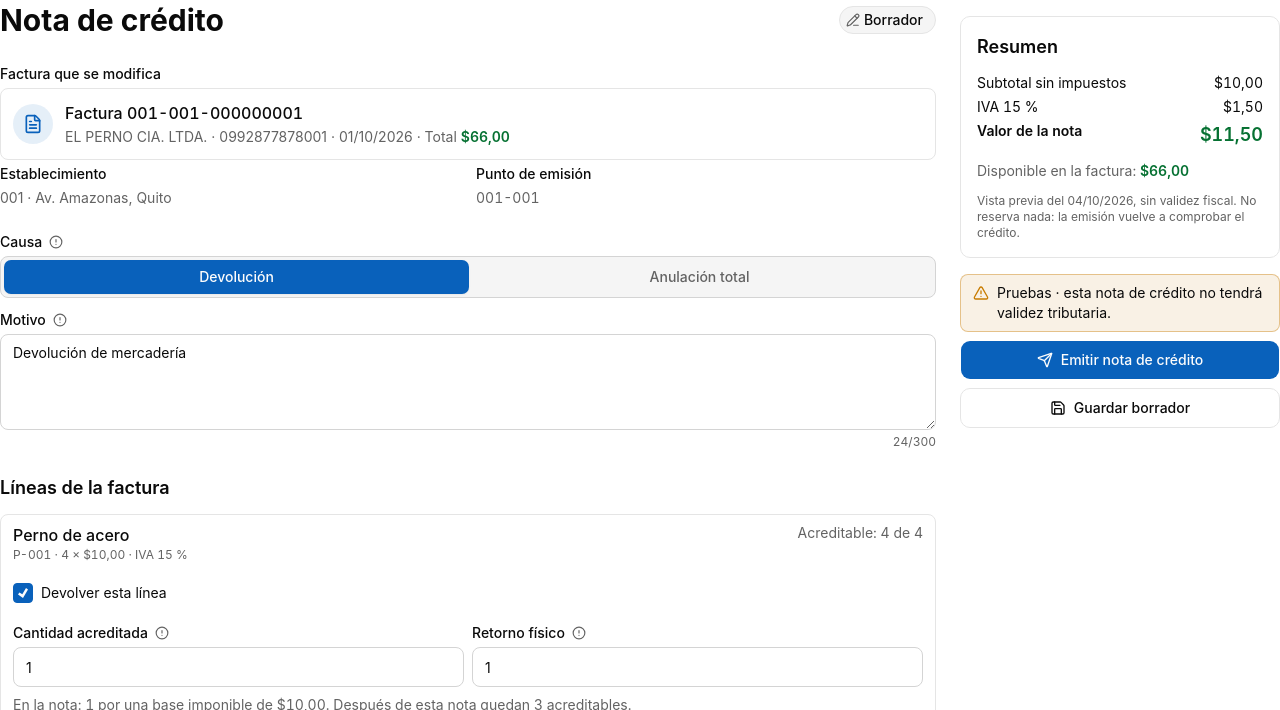
Test case: borrador de nota de crédito › un 409 de capacidad se explica con el foco en el aviso y vuelve a pedir la vista previa
The width and height of the screenshot is (1280, 710).
What coordinates should you click on to do the following:
click the button "Emitir nota de crédito"
I would click on:
 (1120, 360)
Its box is [960,340,1279,380].
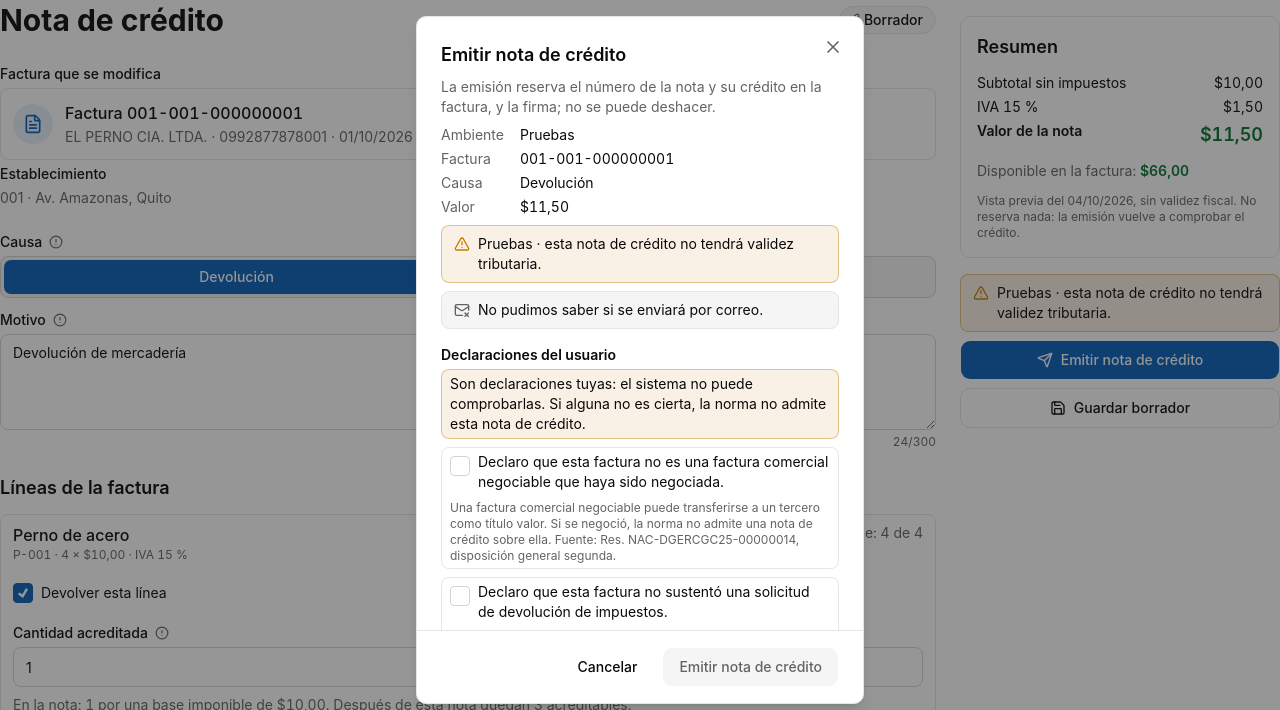
What coordinates should you click on to do the following:
click the checkbox named "Declaro que esta factura no es una factura comercial negociable que haya sido negociada."
I would click on:
 (460, 466)
Its box is [450,456,470,476].
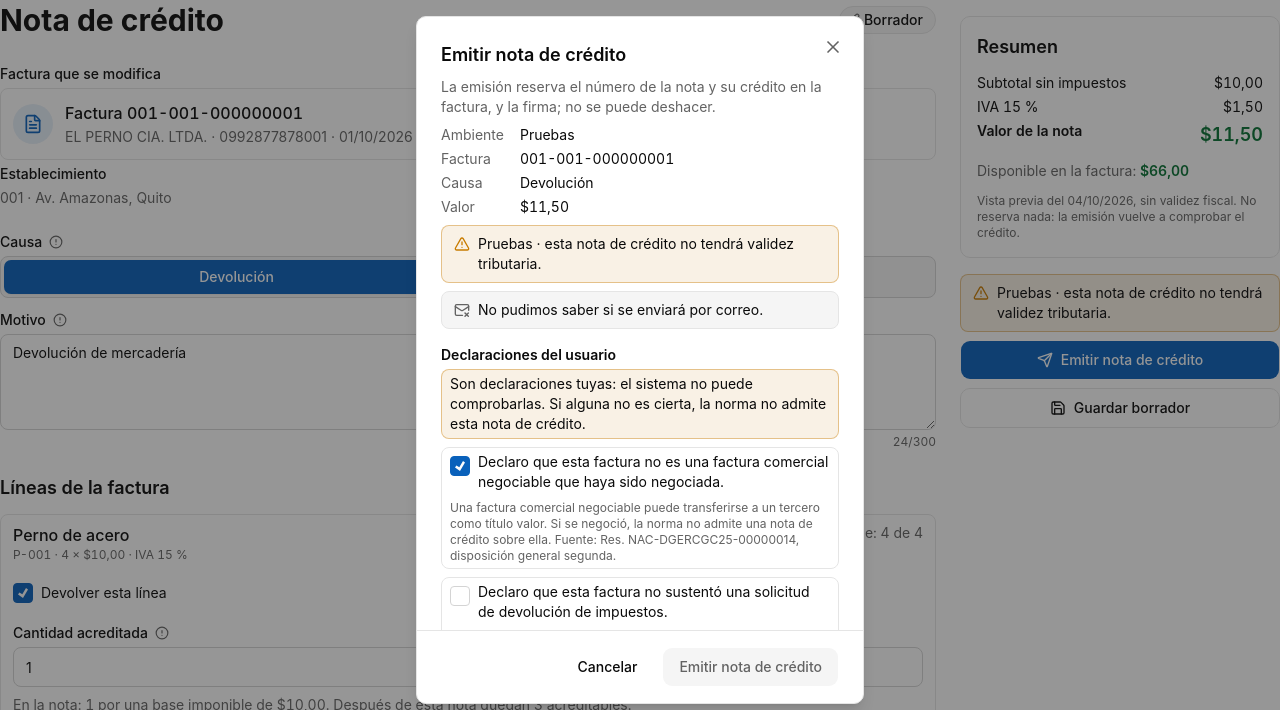
What coordinates should you click on to do the following:
click the checkbox labelled "Declaro que esta factura no sustentó una solicitud de devolución de impuestos."
I would click on:
 (460, 596)
Its box is [450,586,470,606].
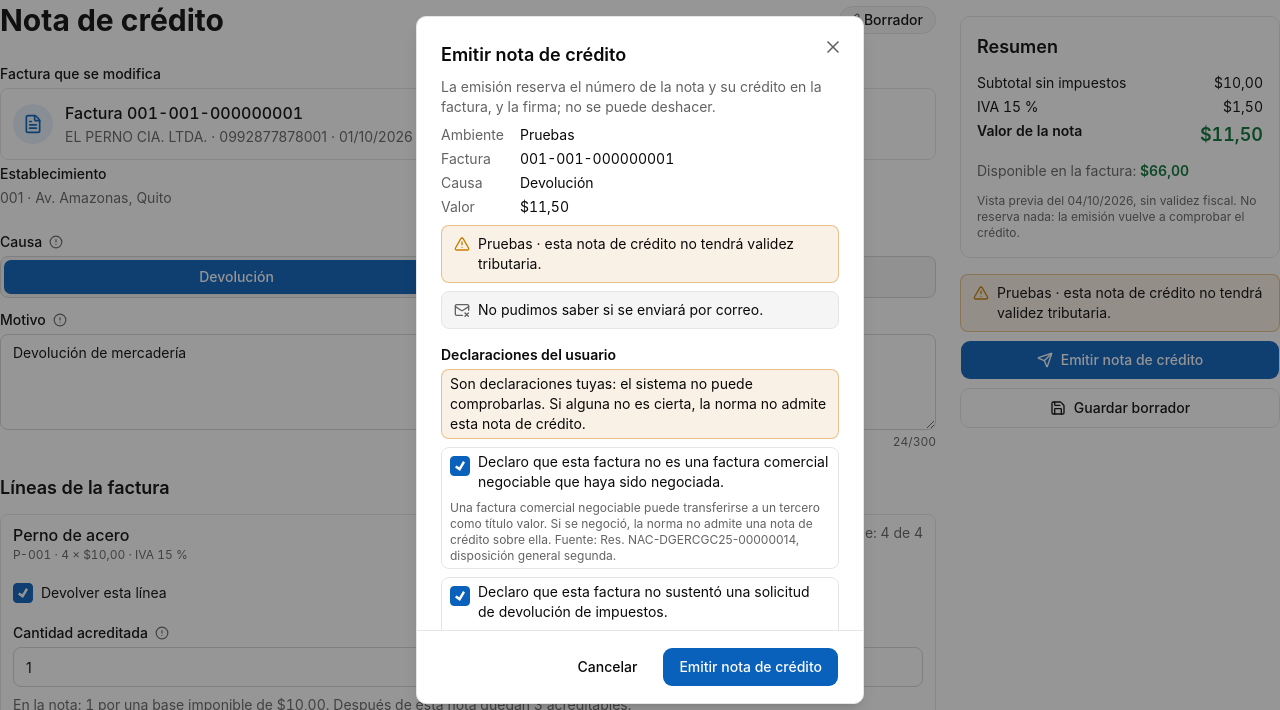
What coordinates should you click on to do the following:
click the button "Emitir nota de crédito"
I would click on:
 (751, 667)
Its box is [662,647,839,687].
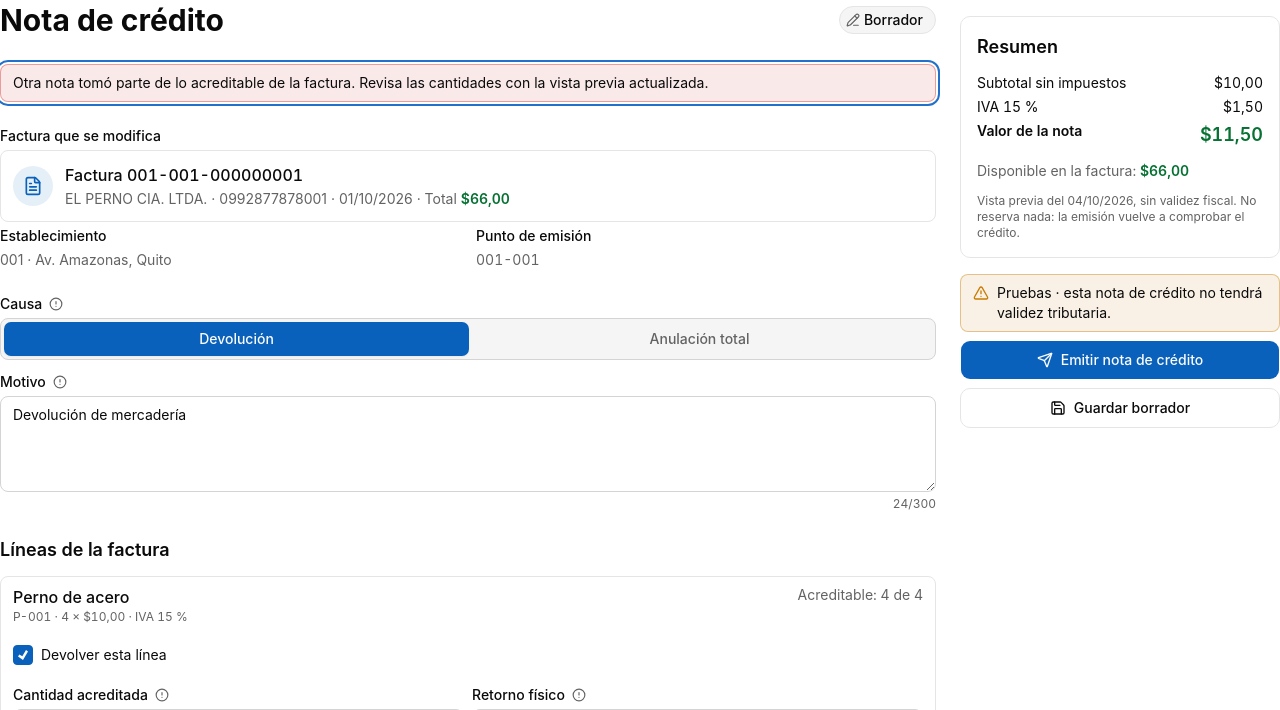
Expected: the message shows "Otra nota tomó parte de lo acreditable de la factura. Revisa las cantidades con la vista previa actualizada.", [13,74,708,91]
